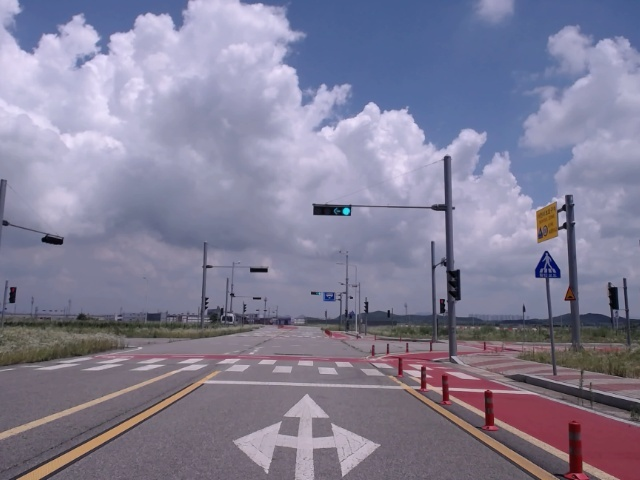all_green_4: (312, 207, 351, 216)
